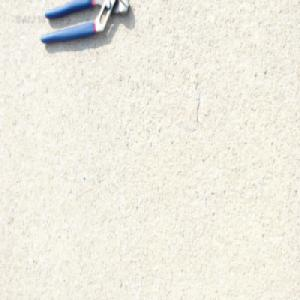Pliers: (40, 0, 130, 48)
